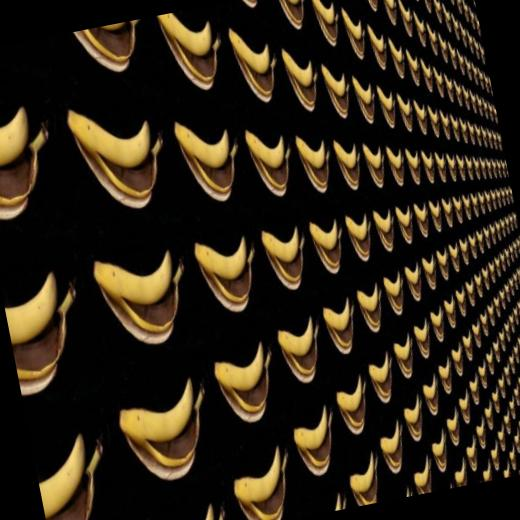Banana: (210, 0, 520, 514), (67, 97, 173, 219), (90, 245, 200, 358), (113, 375, 220, 488), (0, 267, 93, 395), (30, 426, 122, 520), (0, 105, 63, 225), (172, 112, 245, 205), (156, 4, 228, 97), (192, 232, 265, 317), (210, 342, 282, 424), (228, 443, 301, 520), (68, 20, 146, 76), (189, 499, 229, 520)
